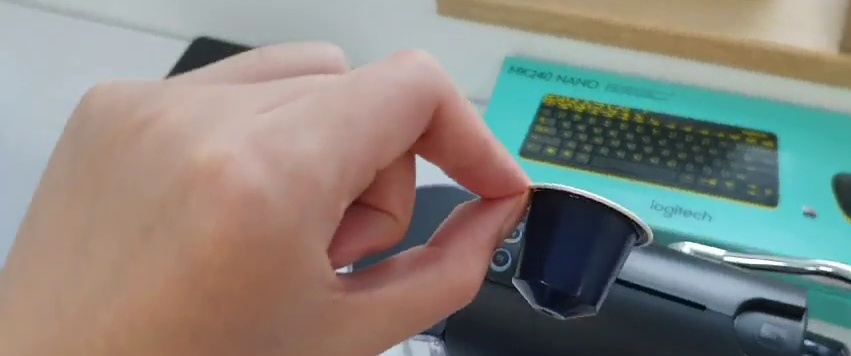capsule_1: (510, 184, 657, 324)
